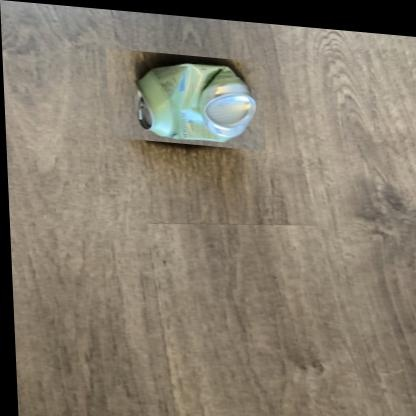trash: (138, 63, 255, 141)
